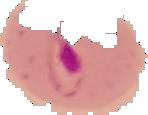parasitized: (8, 21, 142, 109), (46, 37, 95, 103)
